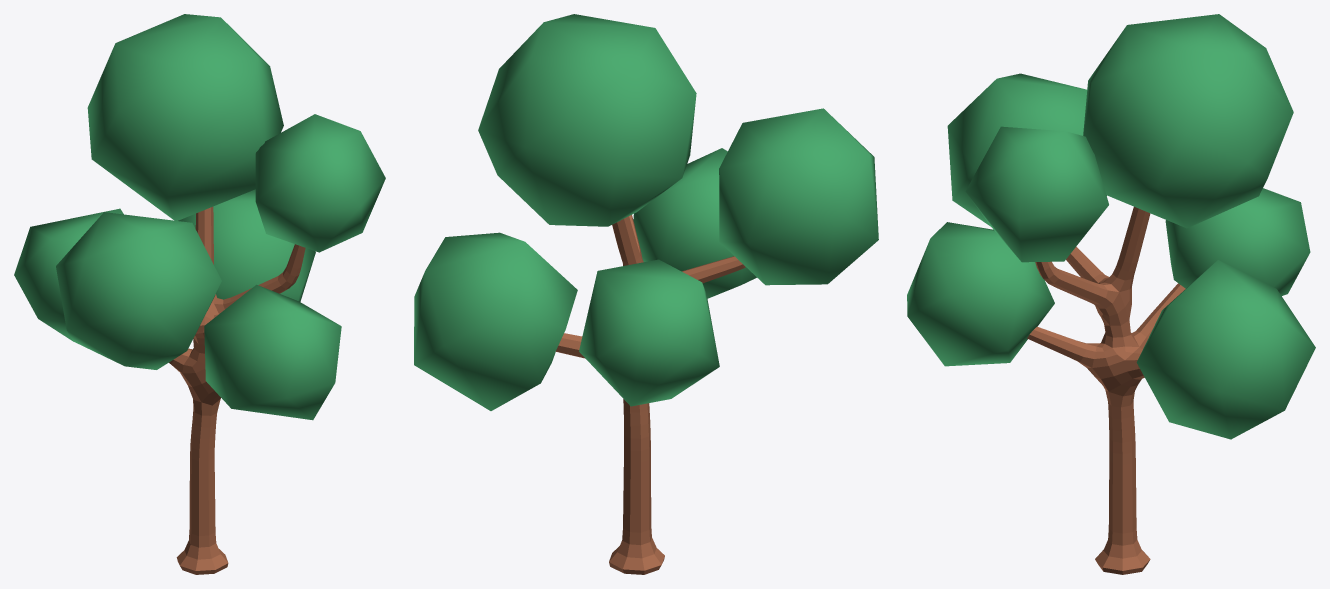
File: kuru agaç2fbx.fbx
The picture shows the model from 3 angles, left to right: view 1: azimuth 30°, elevation 25°; view 2: azimuth 150°, elevation 25°; view 3: azimuth 270°, elevation 25°; orthographic projection. The views are drawn at different scales.
Parts seen in each view (by area): view 1: Mball.001, Plane; view 2: Mball.001, Plane; view 3: Mball.001, Plane.
Part boxes in pixels (x1,y1,x2,y2): Mball.001: [14, 14, 385, 420]; Plane: [169, 206, 305, 574]; Mball.001: [414, 14, 878, 410]; Plane: [555, 215, 745, 574]; Mball.001: [907, 14, 1315, 439]; Plane: [1027, 206, 1185, 574].
Size of the model in its own units: 727 by 1052 by 717.
